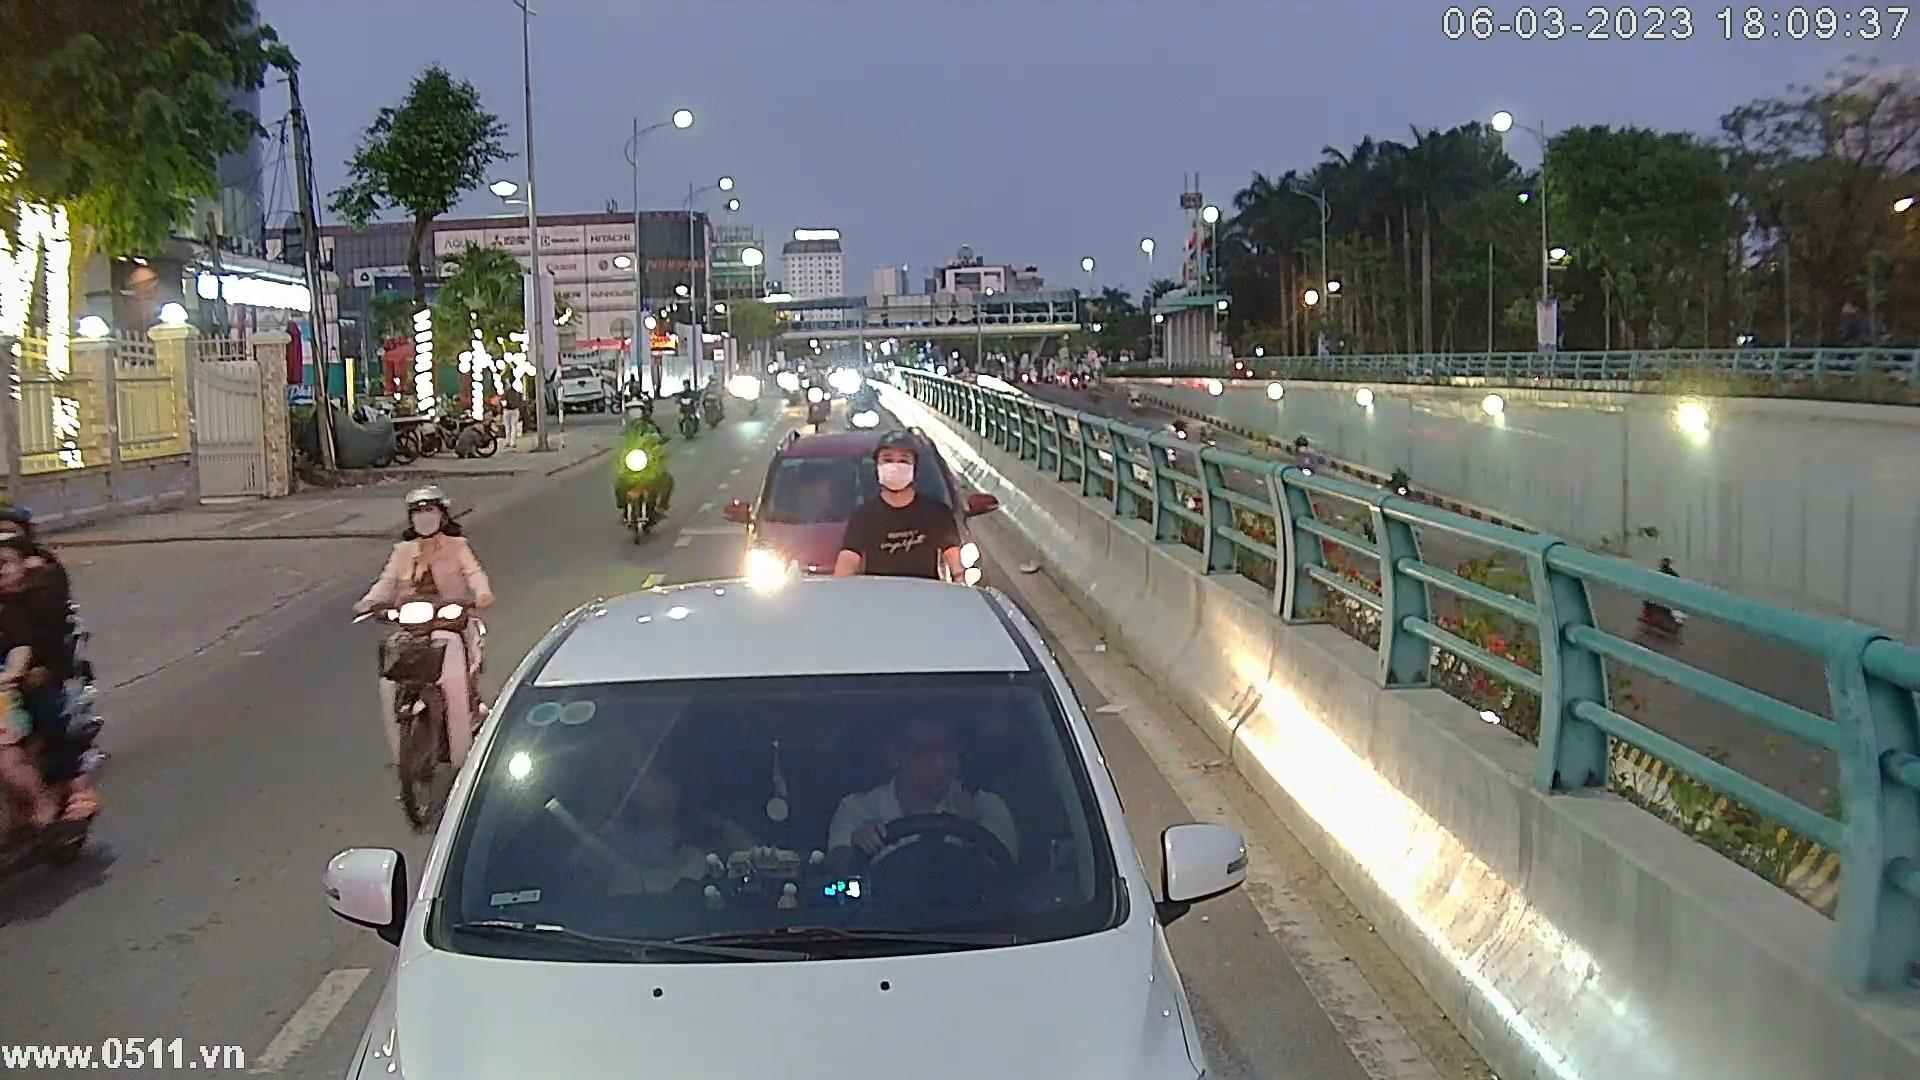car: (320, 571, 1253, 1080), (716, 425, 1000, 604)
motorcycle: (347, 488, 502, 836), (0, 498, 108, 878), (611, 380, 680, 549)
